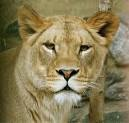lion: (4, 3, 121, 123)
